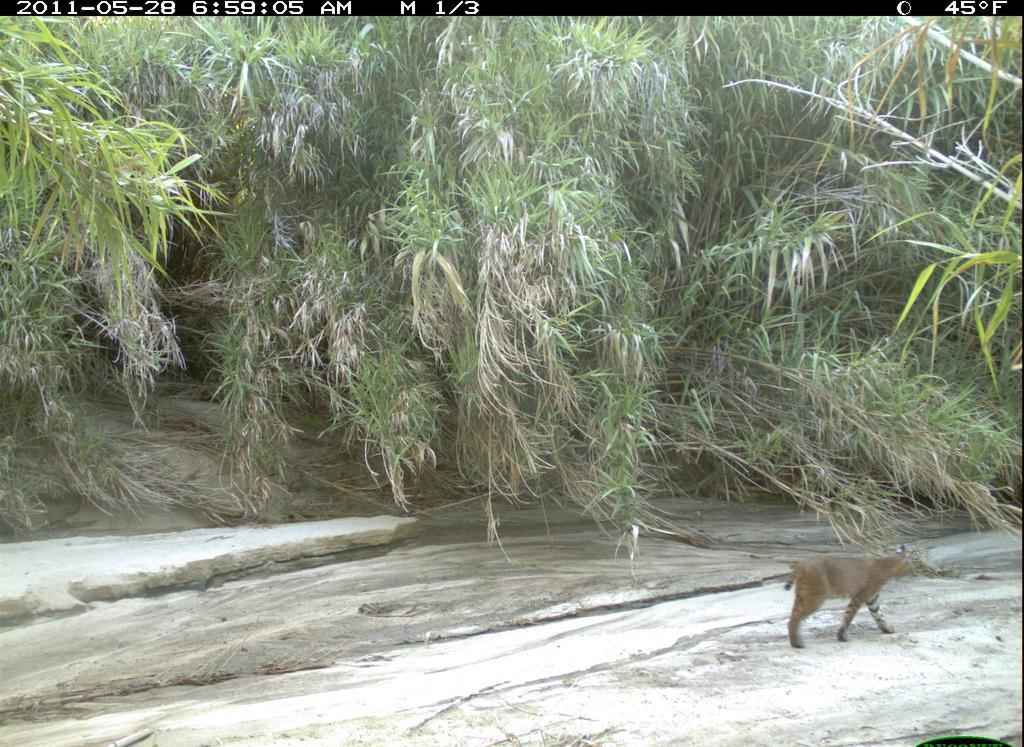bobcat: (776, 541, 925, 648)
